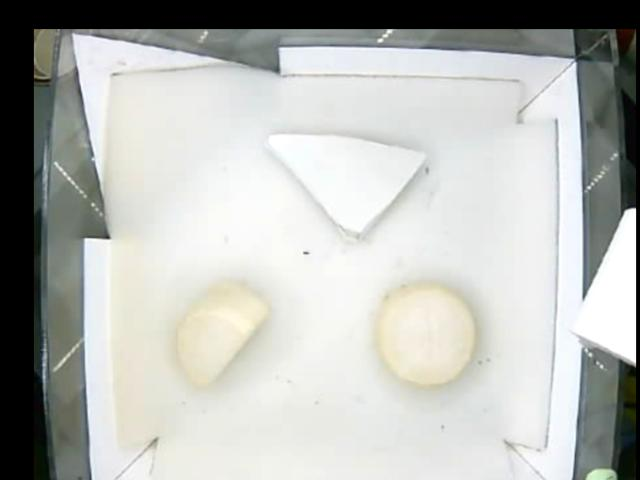China: (266, 129, 427, 240)
Mooli: (174, 277, 272, 389), (378, 279, 474, 381)
